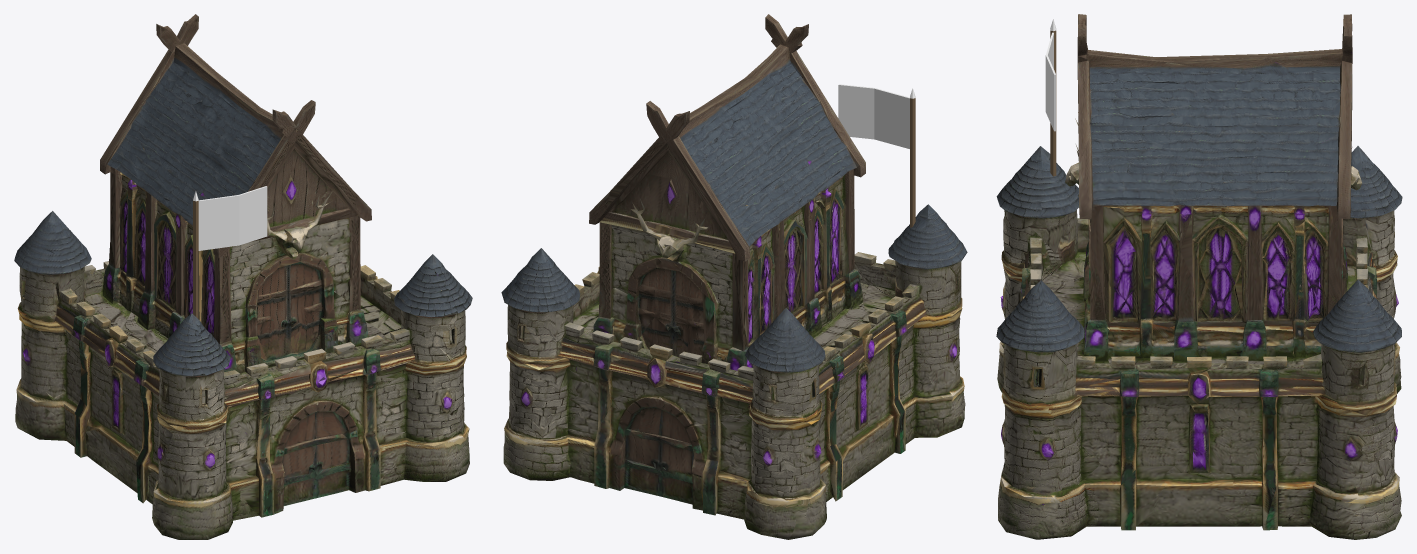
3 views of the same model, side by side, from view 1: azimuth 30°, elevation 25°; view 2: azimuth 150°, elevation 25°; view 3: azimuth 270°, elevation 25° (orthographic). The views are drawn at different scales.
Visible parts, largest first — view 1: citadel, Team_banner; view 2: citadel, Team_banner; view 3: citadel, Team_banner.
Part boxes in pixels (x1,y1,x2,y2): citadel: (14, 14, 472, 539); Team_banner: (193, 186, 267, 318); citadel: (501, 14, 967, 539); Team_banner: (838, 84, 915, 227); citadel: (996, 14, 1402, 539); Team_banner: (1045, 19, 1056, 176).
Size of the model in its own units: 1.62 by 1.9 by 1.62.
3 materials, 1 textured.
